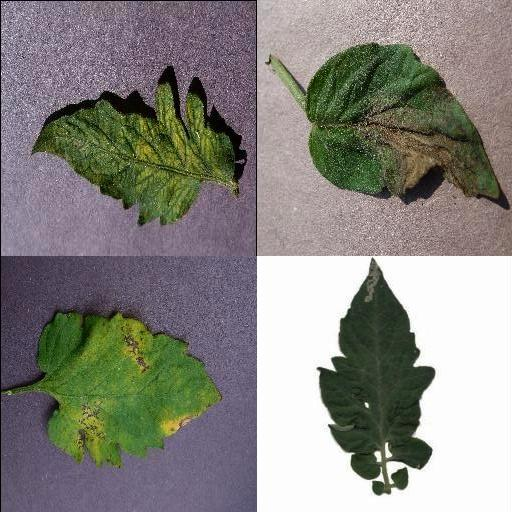Late Blight: (306, 43, 500, 203)
Leaf Miner: (317, 257, 439, 456)
Mosaic Virus: (29, 84, 235, 226)
Septoria: (38, 310, 224, 470)
